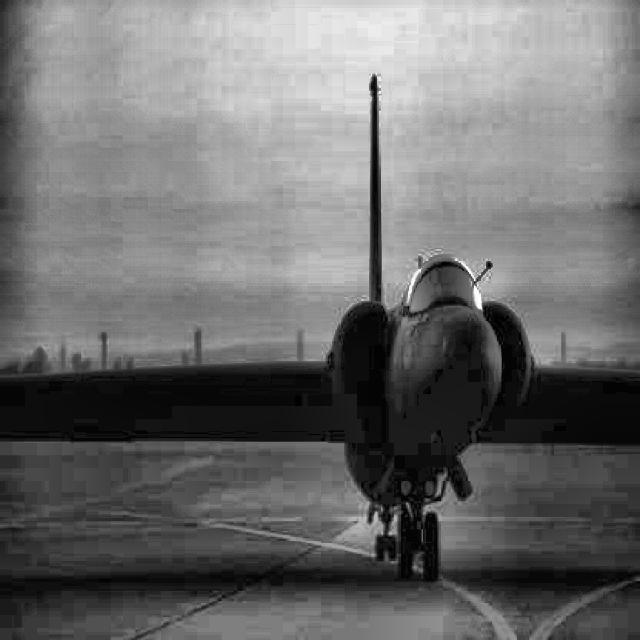U2: (1, 73, 639, 582)
